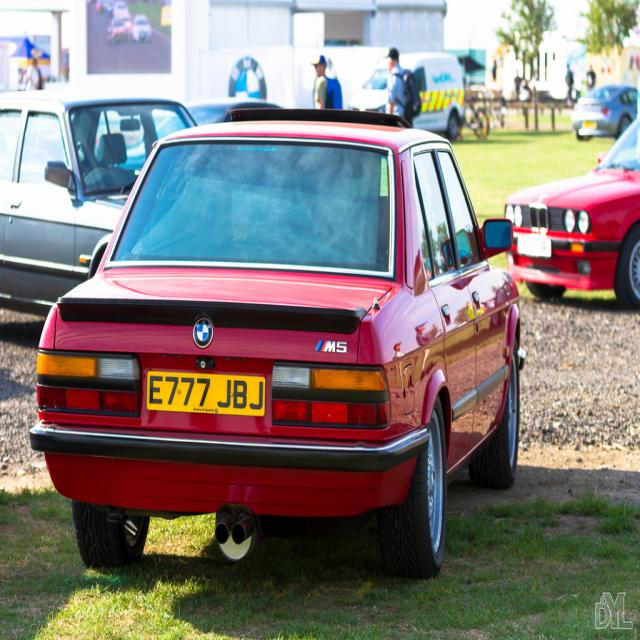car: (33, 101, 532, 592)
